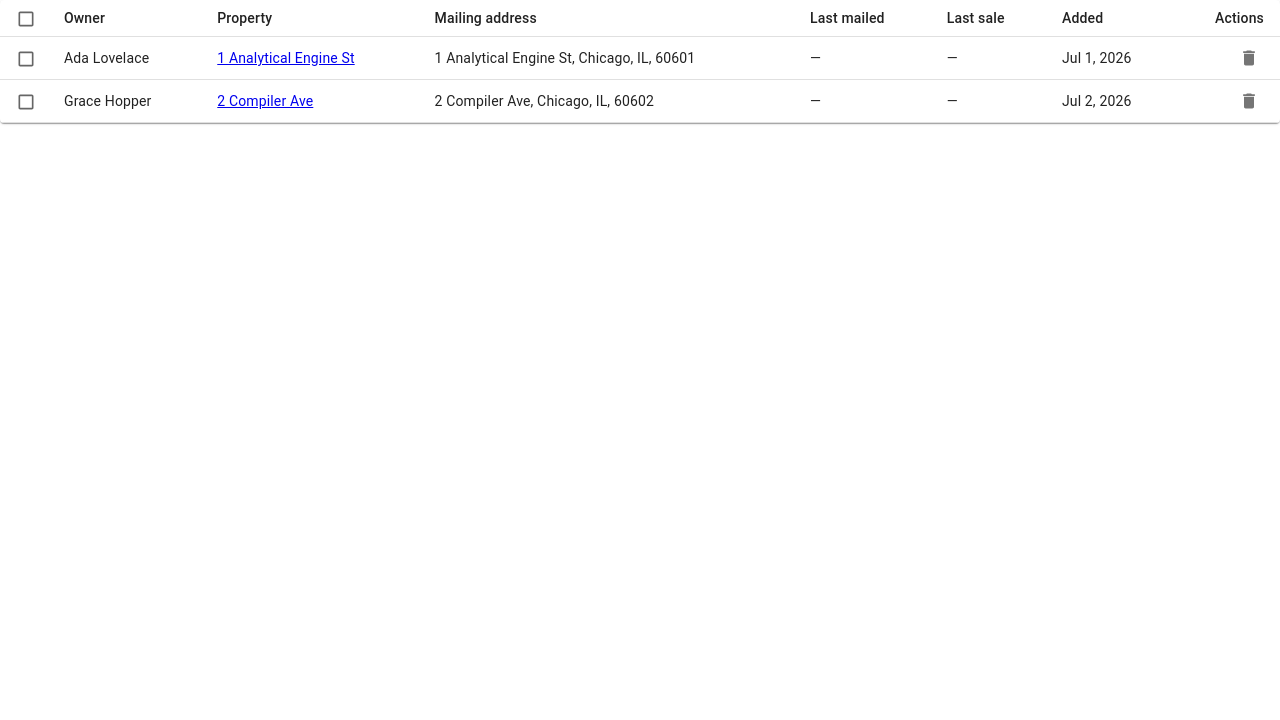
MailQueueStagedTable › toasts the unwrapped API message when single remove fails
Click the button named "Remove from batch" in the row of "Ada Lovelace".
click(1249, 58)  # box x1=1234 y1=43 x2=1264 y2=73
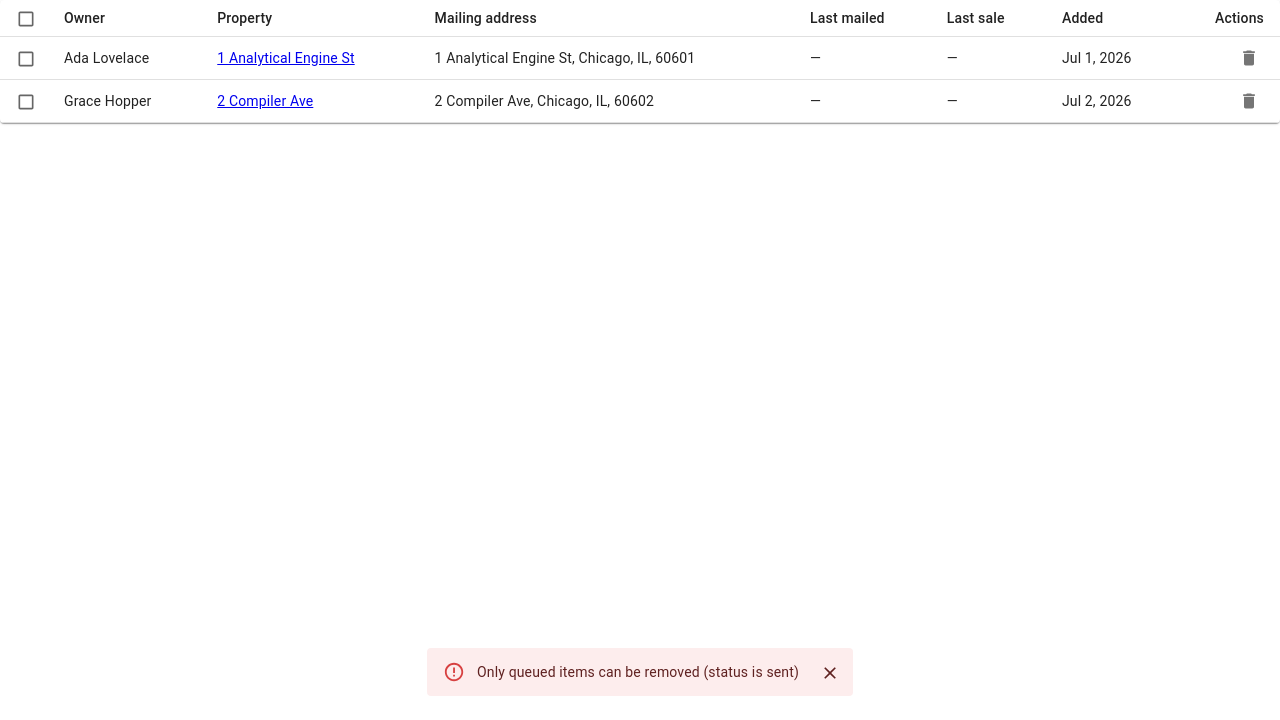
Expected: the element with test id "global-notification-snackbar" reads "Only queued items can be removed (status is sent)", x1=477 y1=664 x2=799 y2=680
